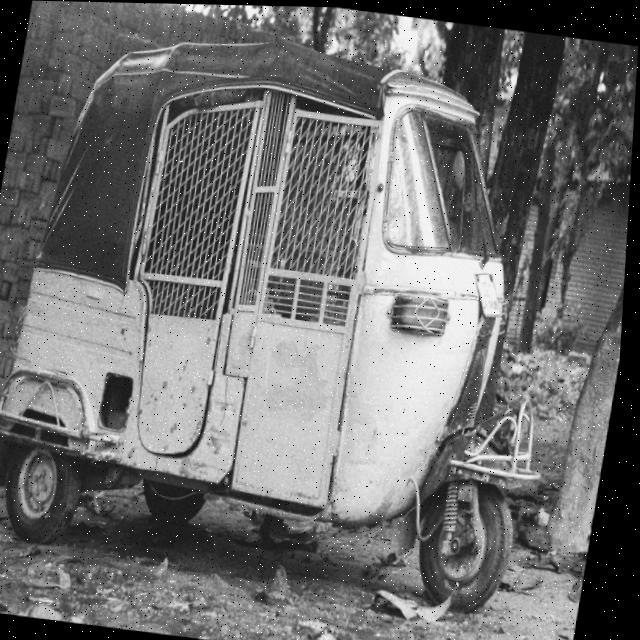cng: (10, 5, 610, 640)
